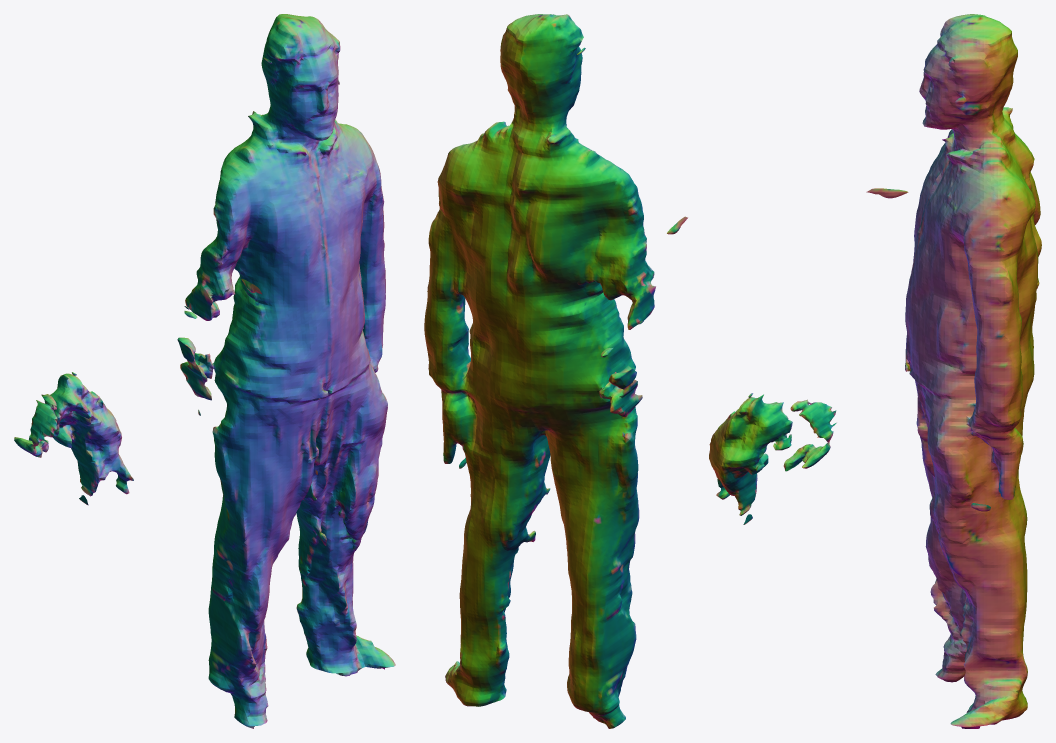
File: result_WIN_20210214_12_05_49_Pro_256.obj
The picture shows the model from 3 angles, left to right: view 1: azimuth 30°, elevation 25°; view 2: azimuth 150°, elevation 25°; view 3: azimuth 270°, elevation 25°; orthographic projection. The views are drawn at different scales.
Size of the model in its own units: 0.9512 by 1.68 by 0.3899.
